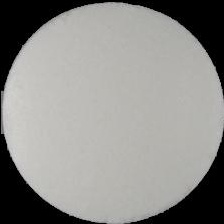55289-172: (0, 0, 224, 224)
